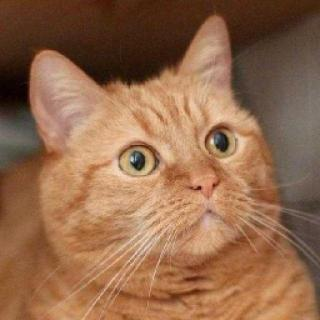cat: (29, 37, 282, 274)
nose: (182, 164, 224, 202)
